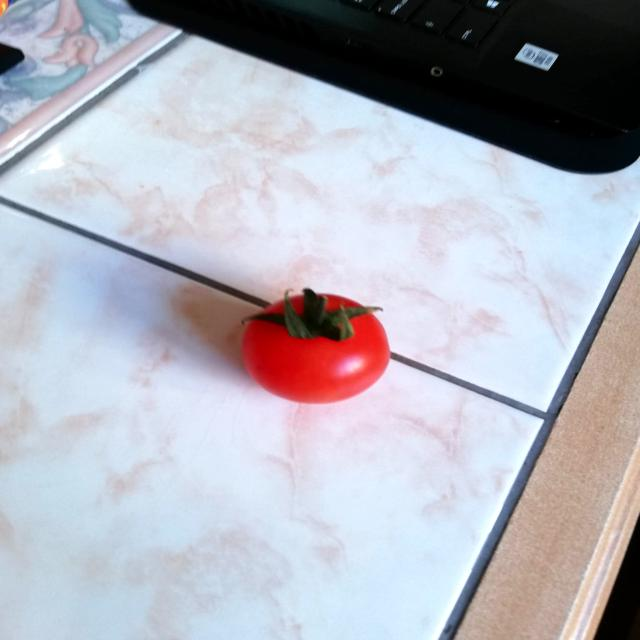tomato: (232, 276, 399, 413)
